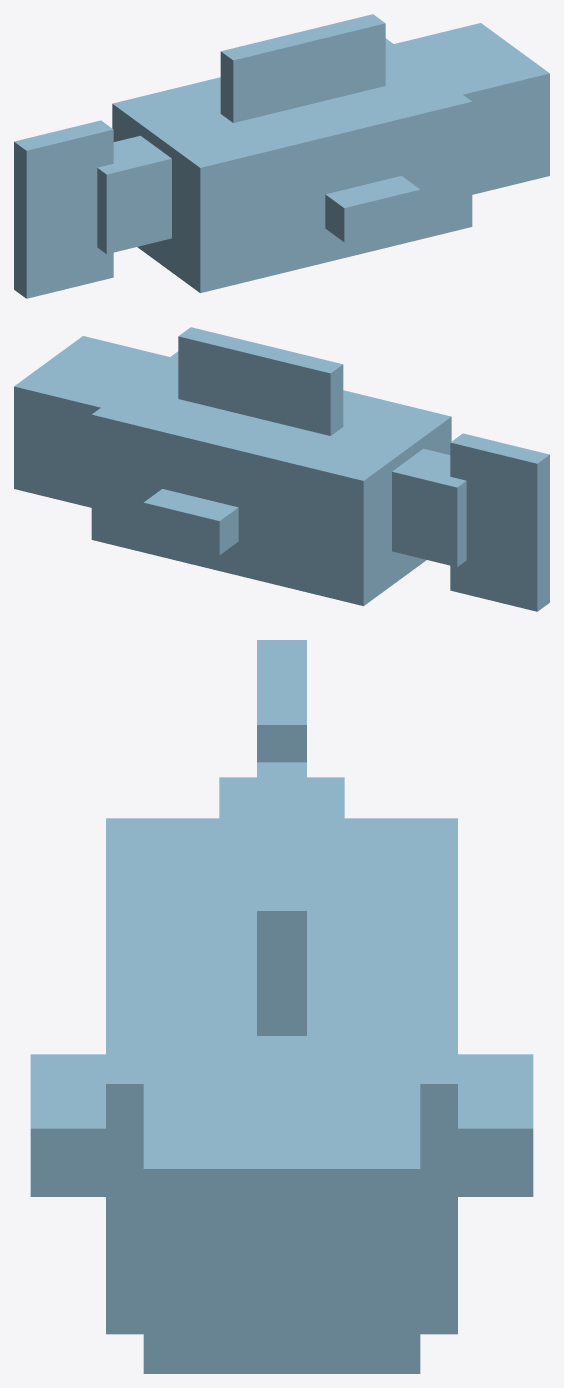
File: fish_ice_char.glb
3 views of the same model, one above another, from view 1: azimuth 30°, elevation 25°; view 2: azimuth 150°, elevation 25°; view 3: azimuth 270°, elevation 25° (orthographic). The views are drawn at different scales.
Parts seen in each view (by area): view 1: species.ice_char; view 2: species.ice_char; view 3: species.ice_char.
Boxes of the visible parts, x1,y1,x2,y2 form: species.ice_char: (14,14,549,298); species.ice_char: (14,327,549,611); species.ice_char: (30,640,533,1373).
Bounding box in the file's own units: 0.3 × 0.1088 × 0.1319.
